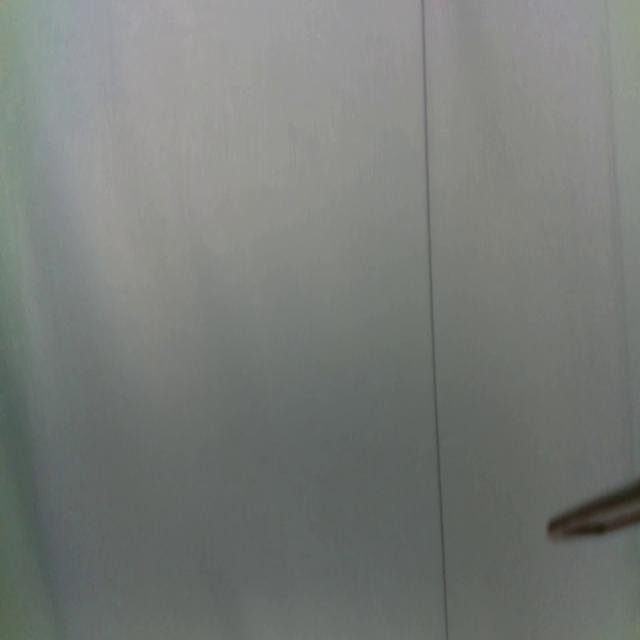crease: (419, 0, 452, 640), (603, 0, 637, 482)
